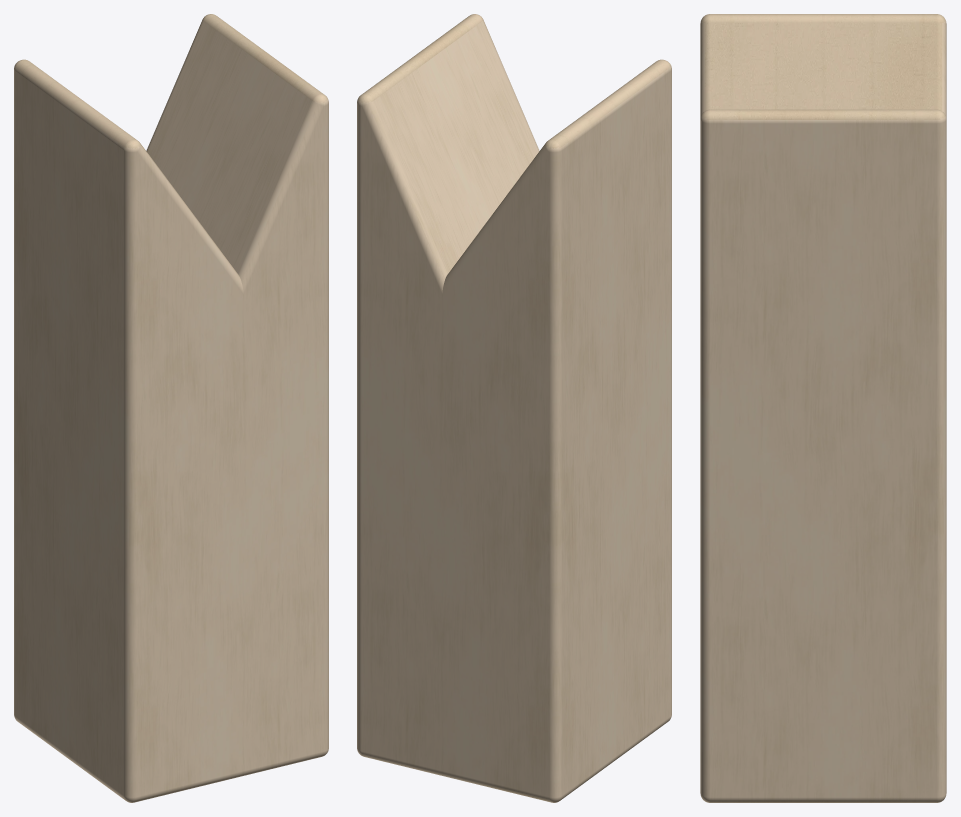
File: queen-white.glb
3 views of the same model, side by side, from view 1: azimuth 30°, elevation 25°; view 2: azimuth 150°, elevation 25°; view 3: azimuth 270°, elevation 25° (orthographic). The views are drawn at different scales.
Parts seen in each view (by area): view 1: Rez_Dama_bily; view 2: Rez_Dama_bily; view 3: Rez_Dama_bily.
Part boxes in pixels (x1,y1,x2,y2): Rez_Dama_bily: (14, 14, 328, 802); Rez_Dama_bily: (357, 14, 671, 802); Rez_Dama_bily: (700, 14, 946, 802).
Size of the model in its own units: 0.4838 by 1.5 by 0.4838.
Materials: 2 (2 with a texture image).
